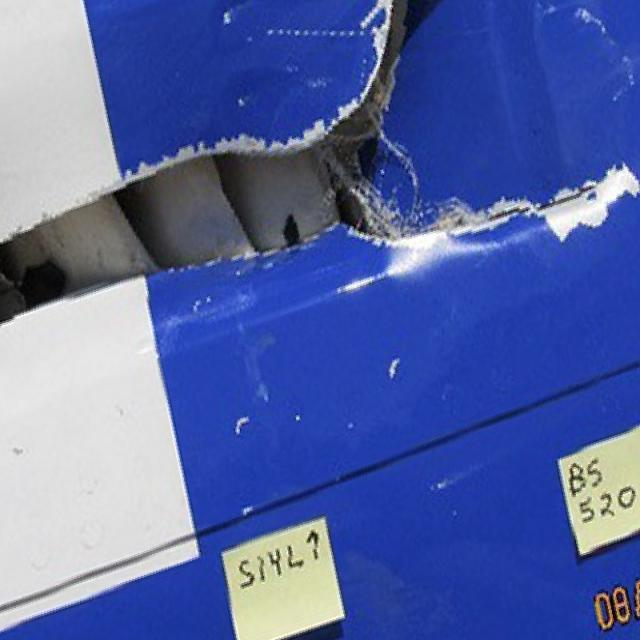crack: (409, 175, 612, 293)
